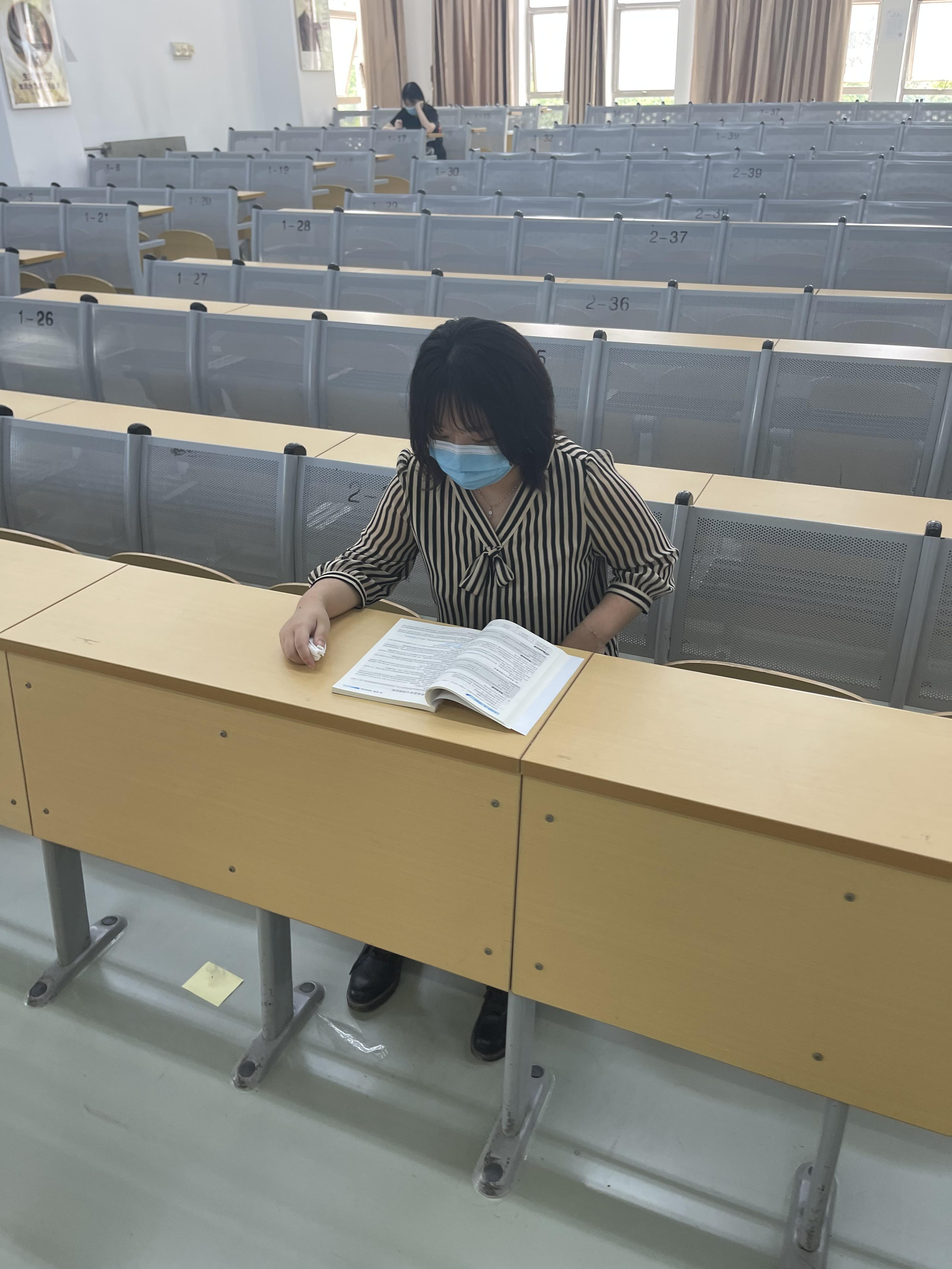study: (279, 319, 675, 695)
